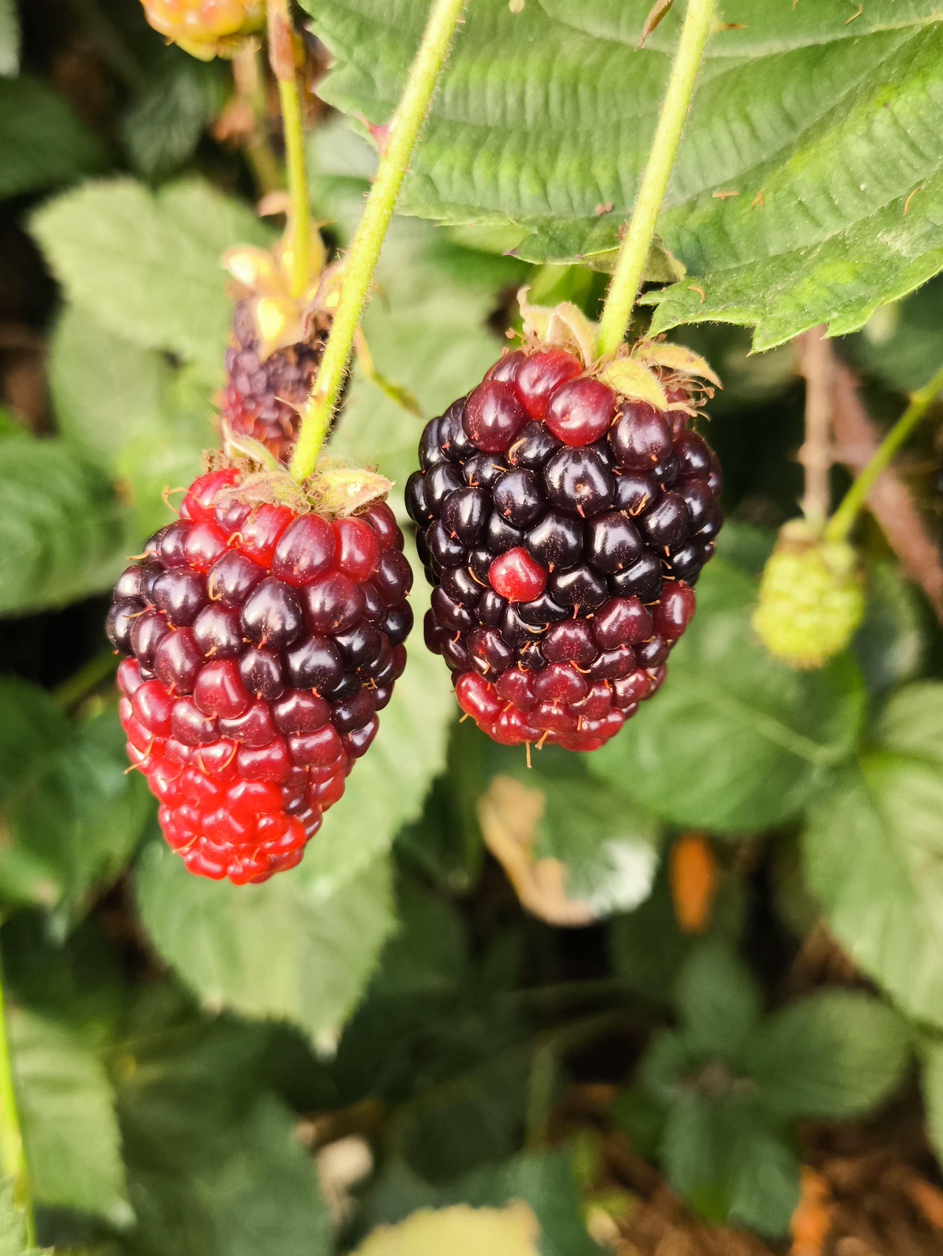marron: (109, 477, 403, 884), (429, 345, 720, 754)
